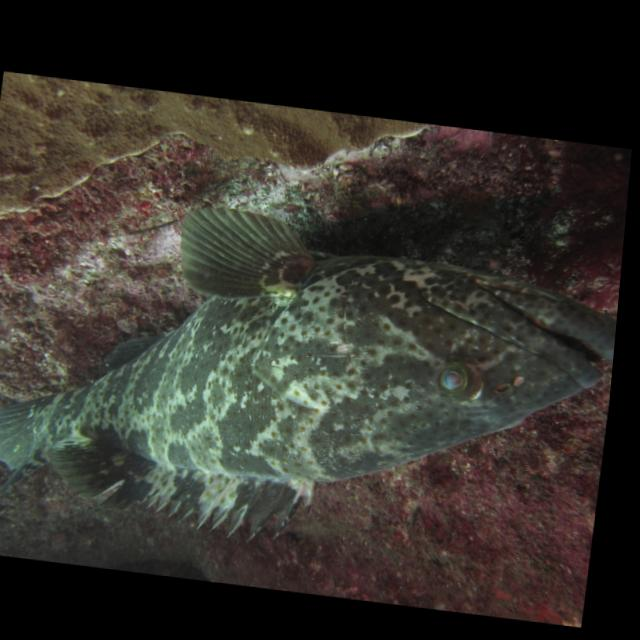Groupers: (0, 176, 624, 590)
